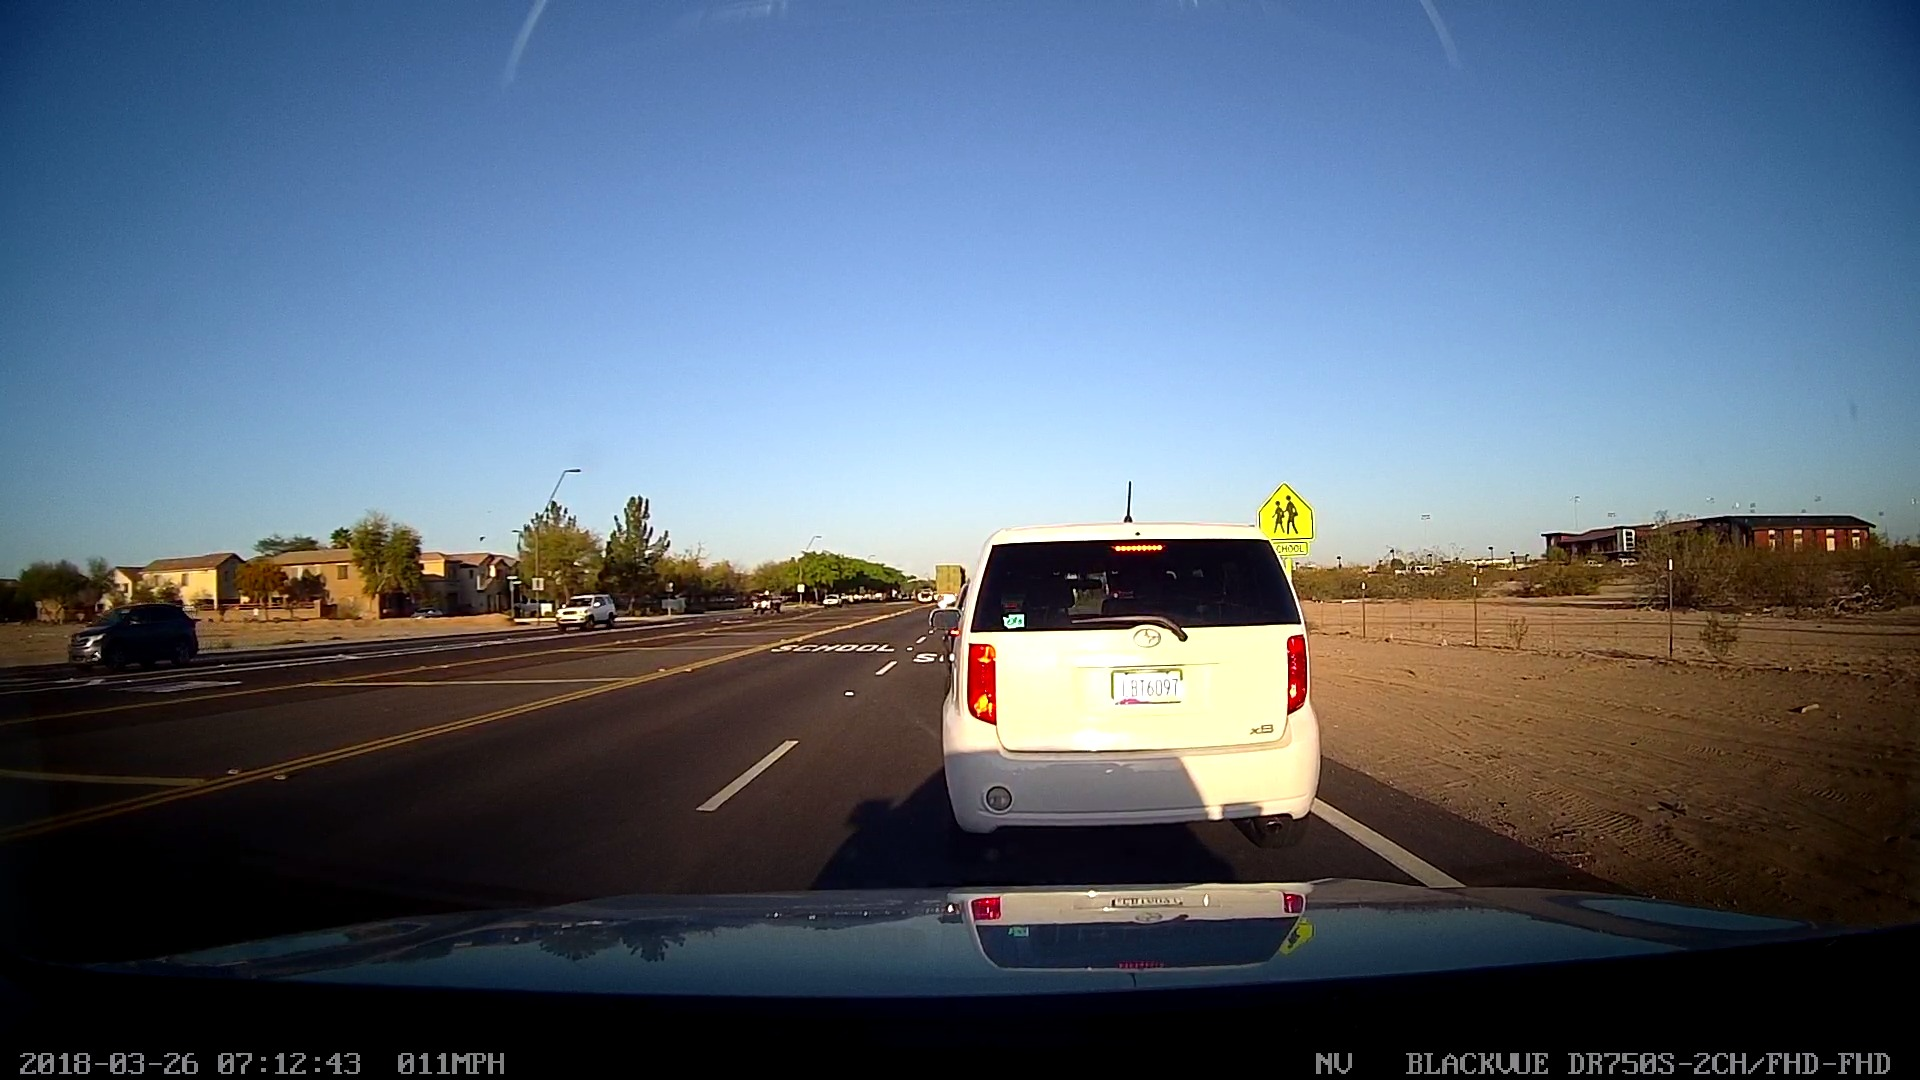plate: (1101, 658, 1197, 712)
vehicle: (929, 515, 1330, 844), (58, 600, 206, 677), (553, 588, 616, 630)
